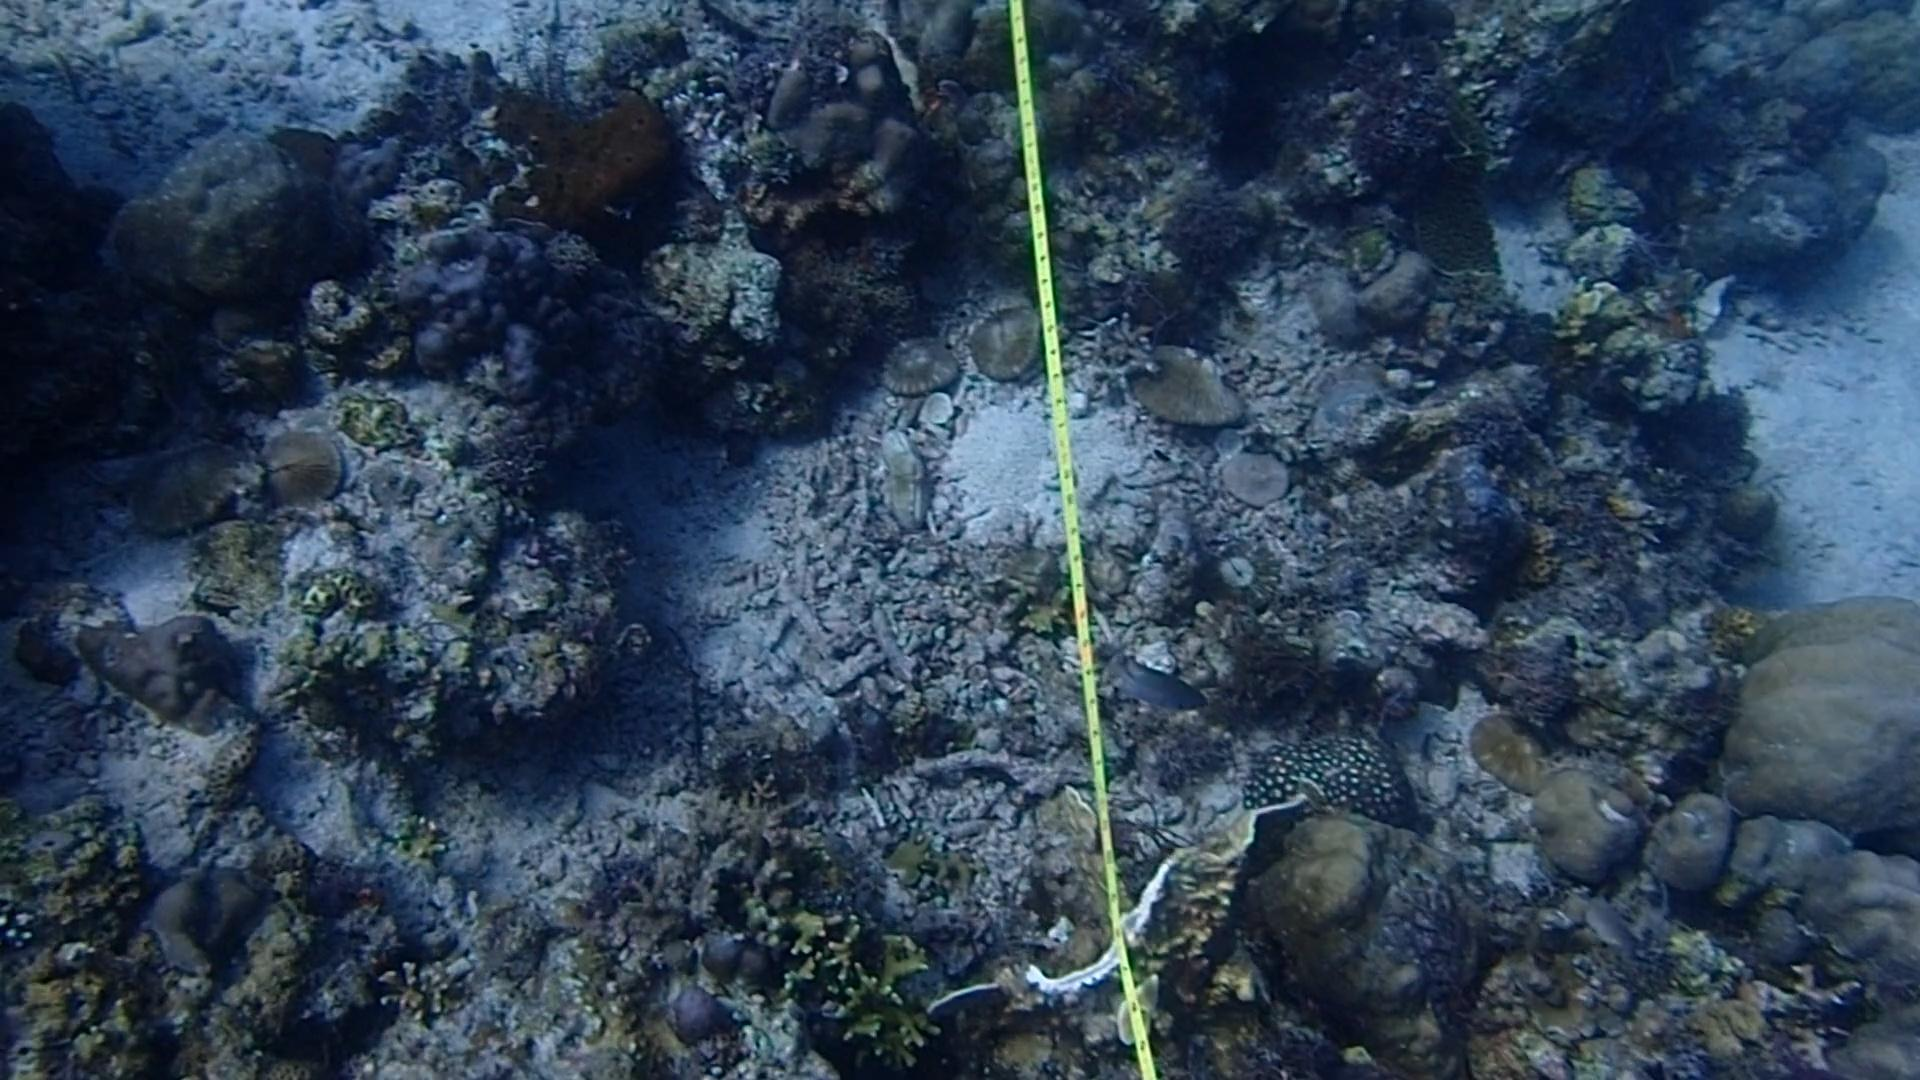Light Fish: (1101, 636, 1211, 736)
